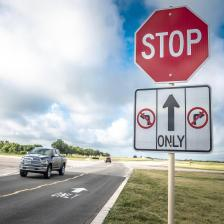Stop-sign: (132, 2, 214, 85)
